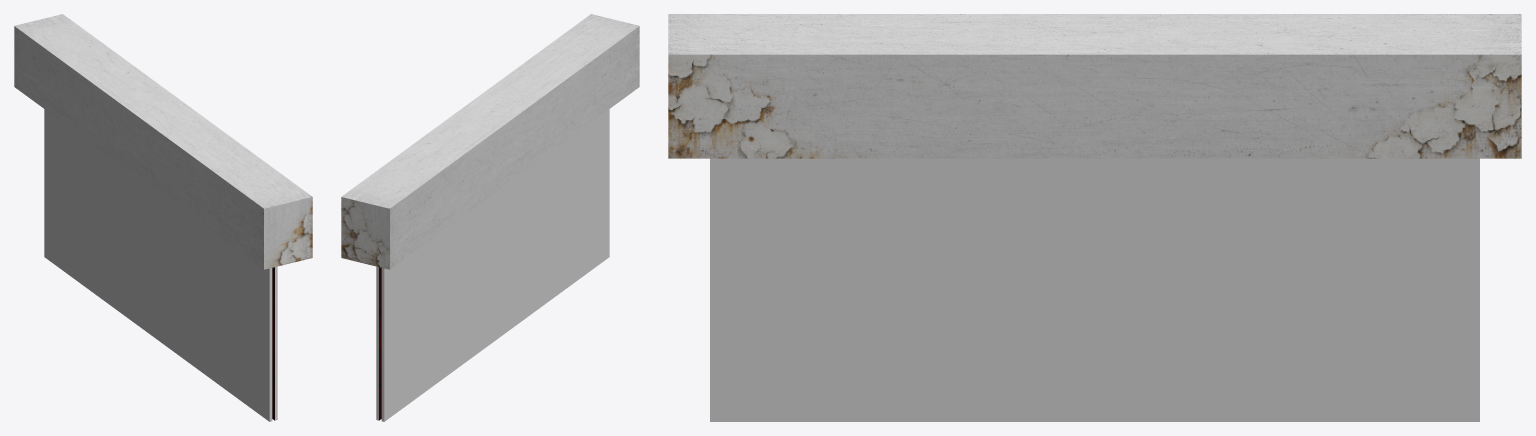
The model's file is ExitSign.fbx.
3 views of the same model, side by side, from view 1: azimuth 30°, elevation 25°; view 2: azimuth 150°, elevation 25°; view 3: azimuth 270°, elevation 25° (orthographic). The views are drawn at different scales.
Visible parts, largest first — view 1: Cube.001, Cube.003, Cube, Cube.002; view 2: Cube.001, Cube.003, Cube, Cube.002; view 3: Cube, Cube.003.
Part boxes in pixels (<box>): Cube.001: <box>44,109,272,421</box>; Cube.003: <box>14,14,312,269</box>; Cube: <box>275,266,277,420</box>; Cube.002: <box>272,267,274,420</box>; Cube.001: <box>381,109,609,421</box>; Cube.003: <box>341,14,639,269</box>; Cube: <box>376,266,378,420</box>; Cube.002: <box>379,267,381,420</box>; Cube: <box>710,158,1479,421</box>; Cube.003: <box>668,14,1521,158</box>.
Size of the model in its own units: 60.92 by 270 by 541.
2 materials, 1 textured.
